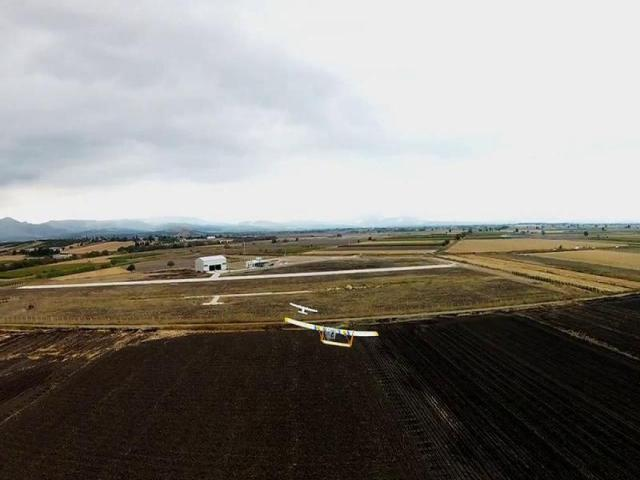hedef: (282, 308, 386, 358)
